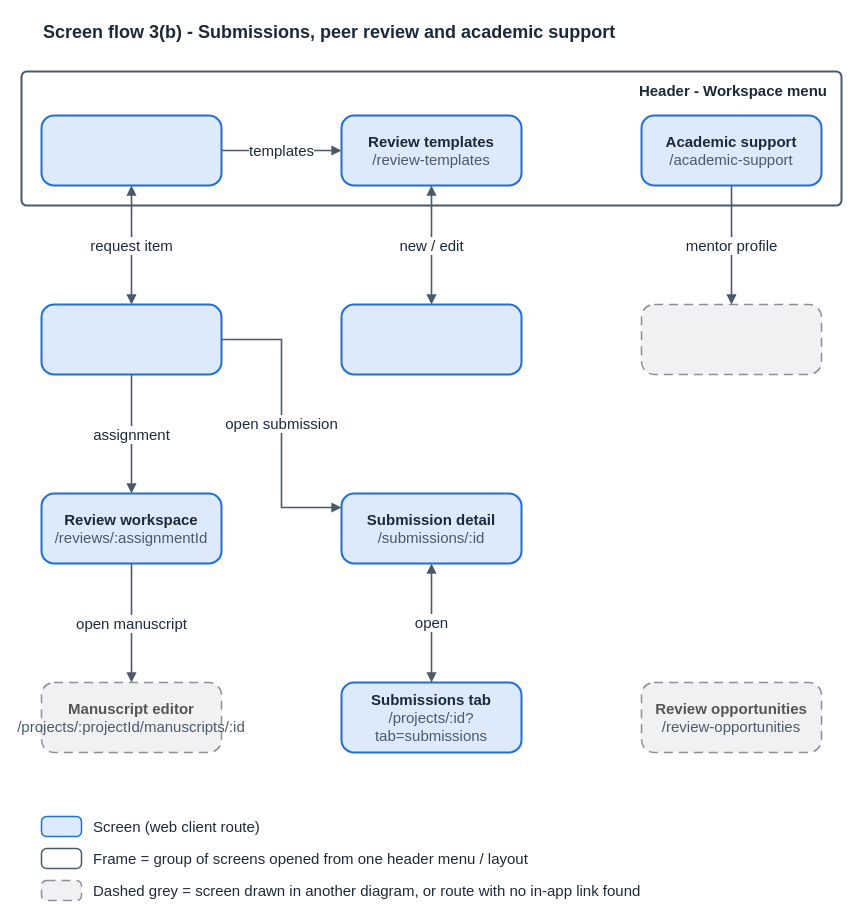
The diagram is 859 pixels wide and 921 high, and some of its shapes have lost their labels. The shapes that lost their labels are listed below. From the top down, each one's box as (x1, y1, x2, y2) in pixels, then its label:
(40, 114, 222, 186): Review center /reviews
(40, 303, 222, 375): Review request /review-requests/:requestId
(340, 303, 522, 375): Template builder /review-templates/new, /:id/edit
(640, 303, 822, 375): Public academic profile /academics/:userId
